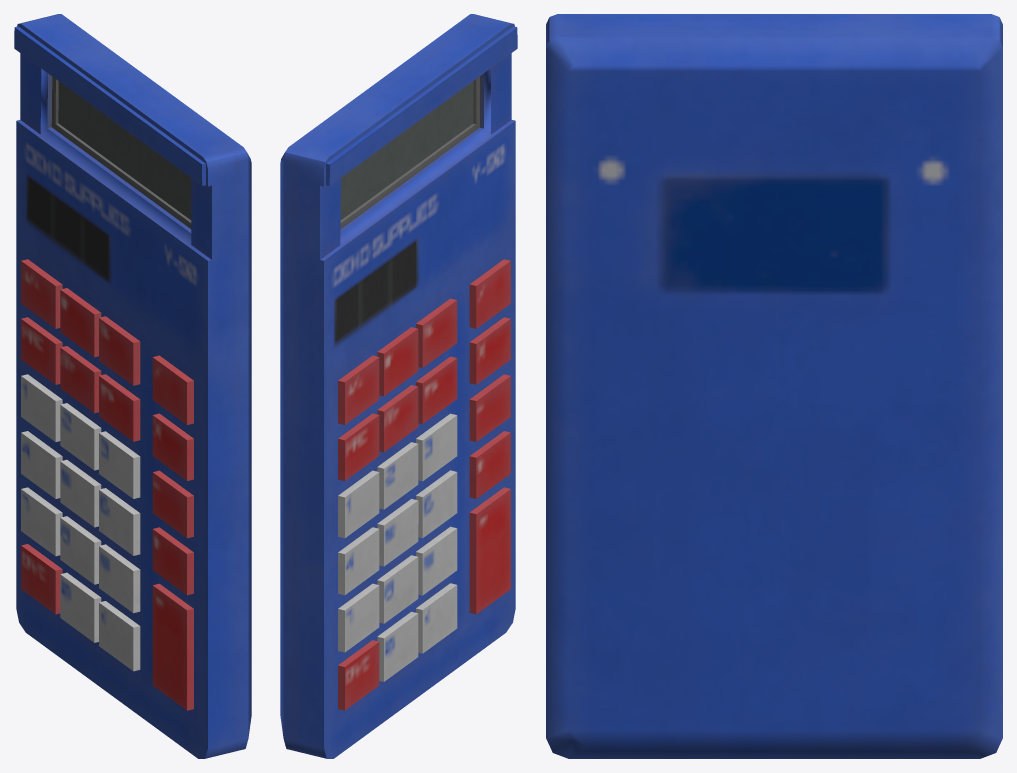
Rendered from SM_Calculator_And_Case_01d.fbx.
3 renders of one model, left to right at view 1: azimuth 30°, elevation 25°; view 2: azimuth 150°, elevation 25°; view 3: azimuth 270°, elevation 25°, orthographic. The views are drawn at different scales.
Visible parts, largest first — view 1: SM_Calculator_And_Case_01d_LOD0; view 2: SM_Calculator_And_Case_01d_LOD0; view 3: SM_Calculator_And_Case_01d_LOD0.
Boxes of the visible parts, box(x1,y1,x2,y2) form: SM_Calculator_And_Case_01d_LOD0: box(14, 14, 251, 758); SM_Calculator_And_Case_01d_LOD0: box(280, 14, 517, 758); SM_Calculator_And_Case_01d_LOD0: box(546, 14, 1002, 758).
Size of the model in its own units: 1.5 by 8.13 by 14.16.
1 material, 1 textured.
